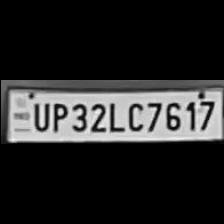1: (180, 97, 196, 130)
2: (86, 99, 106, 133)
3: (67, 100, 87, 132)
6: (161, 98, 181, 132)
7: (194, 97, 214, 131), (143, 98, 161, 132)
C: (123, 98, 143, 132)
L: (105, 98, 123, 132)
P: (47, 100, 66, 132)
U: (28, 98, 48, 132)
